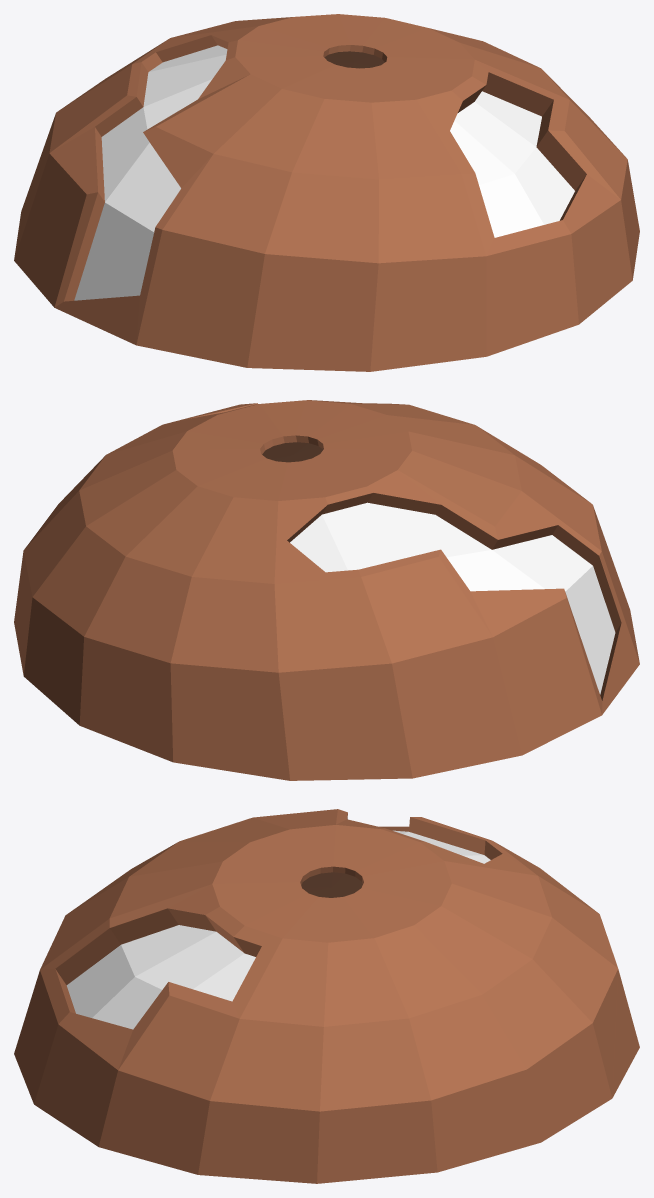
The model's file is coconut_floor.glb.
3 views of the same model, one above another, from view 1: azimuth 30°, elevation 25°; view 2: azimuth 150°, elevation 25°; view 3: azimuth 270°, elevation 25° (orthographic). The views are drawn at different scales.
Visible parts, largest first — view 1: CoconutFloor; view 2: CoconutFloor; view 3: CoconutFloor.
Part boxes in pixels (x1=…): CoconutFloor: x1=14, y1=14, x2=639, y2=371; CoconutFloor: x1=14, y1=400, x2=639, y2=780; CoconutFloor: x1=14, y1=809, x2=639, y2=1183.
Size of the model in its own units: 0.5061 by 0.1707 by 0.5023.
1 material, 1 textured.
